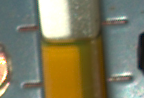border: (99, 17, 129, 26), (18, 81, 45, 91), (15, 23, 41, 33), (104, 75, 134, 83)
liquidlevel: (37, 33, 105, 53)
